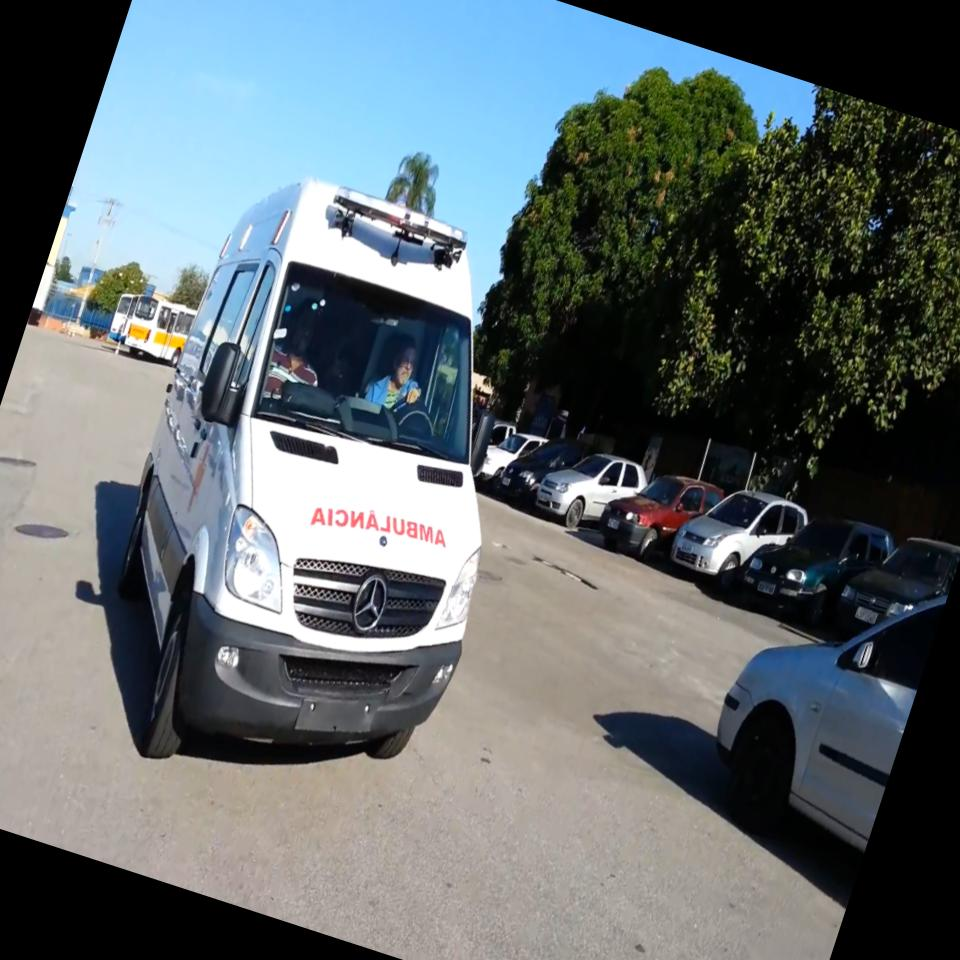bombeiro: (55, 148, 594, 842)
